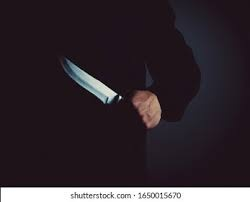knife: (59, 54, 143, 118)
